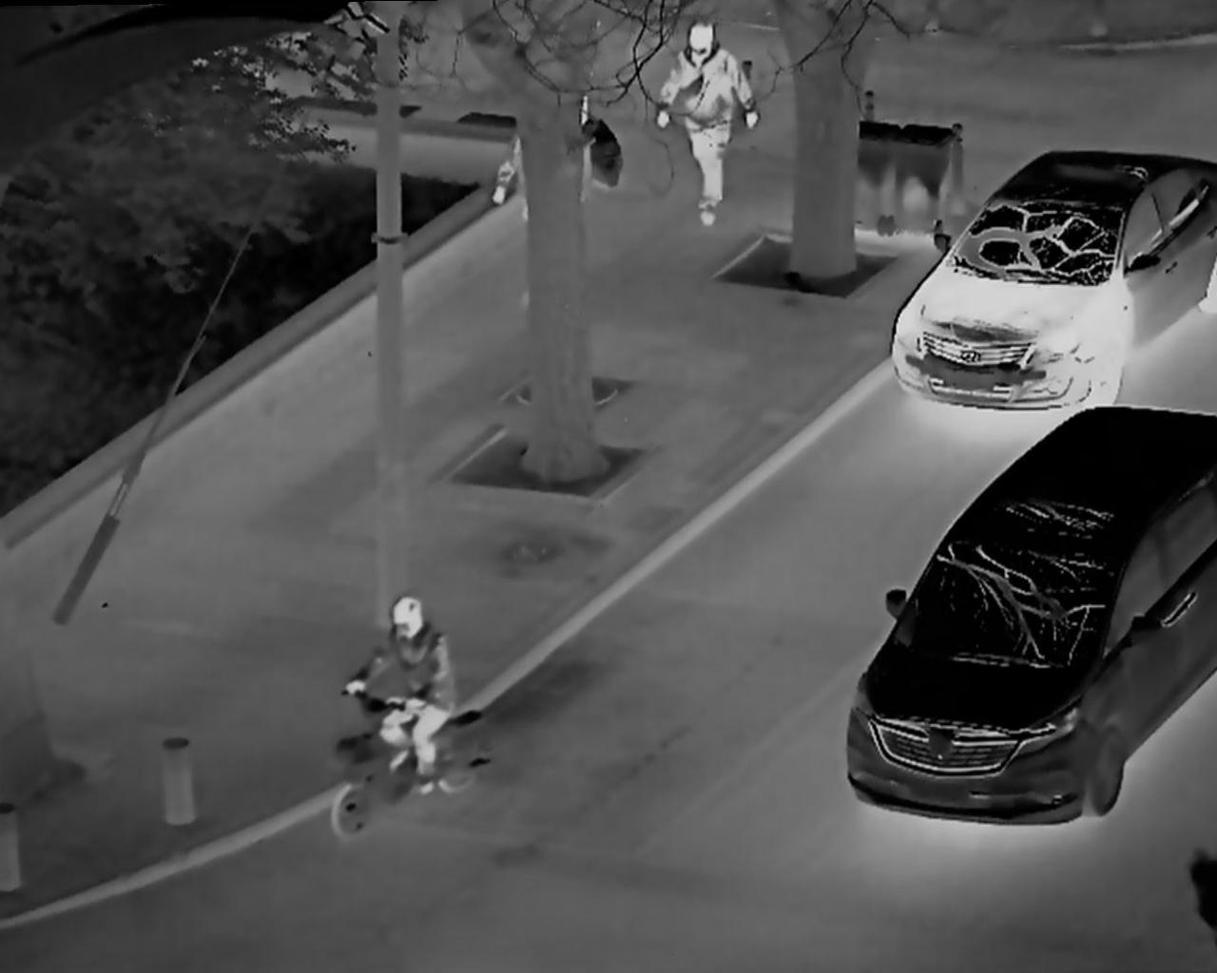person: (338, 583, 464, 819), (650, 10, 763, 231)
